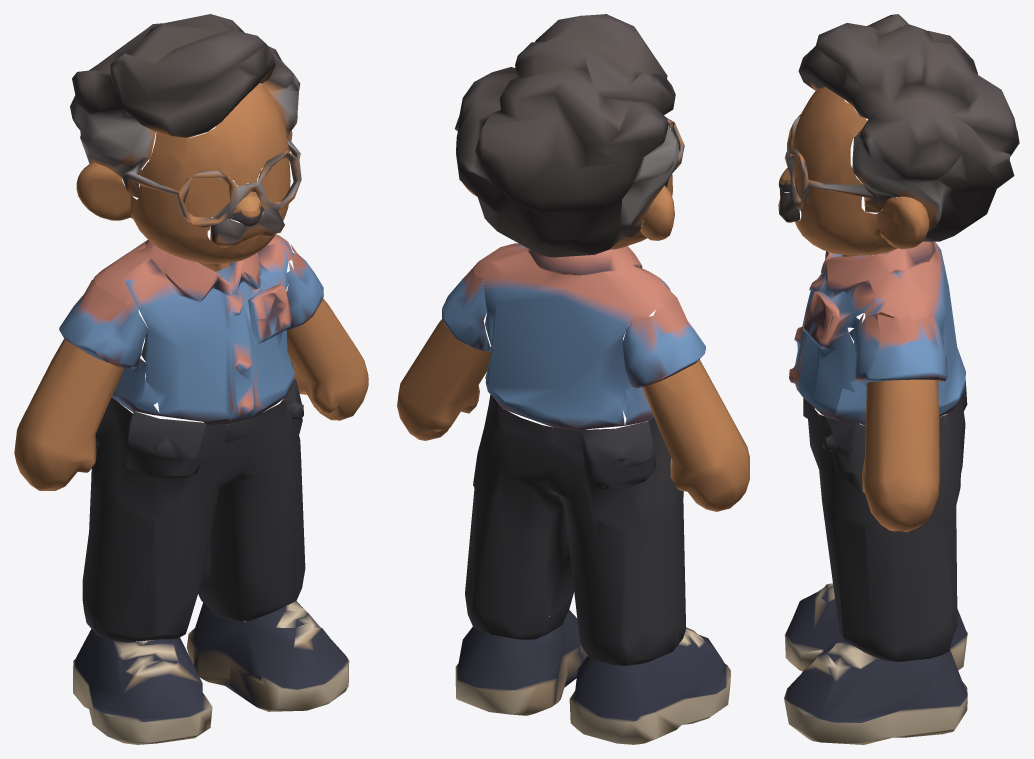
3 renders of one model, left to right at view 1: azimuth 30°, elevation 25°; view 2: azimuth 150°, elevation 25°; view 3: azimuth 270°, elevation 25°, orthographic.
Visible parts, largest first — view 1: bottom, hair, top, head, shoe_l, shoe_r, hand_r, sleeve_r, hand_l, sleeve_l, acc_head_0; view 2: bottom, hair, top, shoe_r, hand_r, shoe_l, hand_l, sleeve_r, sleeve_l, head; view 3: hair, bottom, top, shoe_l, head, hand_l, sleeve_l, shoe_r.
Boxes of the visible parts, x1,y1,x2,y2 form: bottom: [82, 379, 305, 642]; hair: [70, 14, 301, 247]; top: [93, 222, 294, 425]; head: [76, 83, 292, 271]; shoe_l: [186, 601, 349, 711]; shoe_r: [73, 629, 212, 744]; hand_r: [14, 339, 123, 490]; sleeve_r: [59, 278, 158, 414]; hand_l: [286, 298, 368, 420]; sleeve_l: [285, 244, 323, 371]; acc_head_0: [228, 191, 264, 226]; bottom: [465, 394, 685, 665]; hair: [455, 14, 684, 257]; top: [474, 243, 676, 430]; shoe_r: [569, 627, 730, 744]; hand_r: [642, 359, 749, 511]; shoe_l: [455, 610, 587, 715]; hand_l: [397, 319, 491, 440]; sleeve_r: [622, 298, 705, 425]; sleeve_l: [442, 261, 490, 379]; head: [463, 174, 674, 249]; hair: [778, 14, 1019, 241]; bottom: [803, 381, 967, 662]; top: [789, 241, 965, 420]; shoe_l: [784, 640, 967, 744]; head: [791, 87, 929, 256]; hand_l: [862, 379, 939, 532]; sleeve_l: [835, 311, 947, 425]; shoe_r: [784, 583, 967, 671].
Size of the model in its own units: 0.547 by 1.03 by 0.3385.
